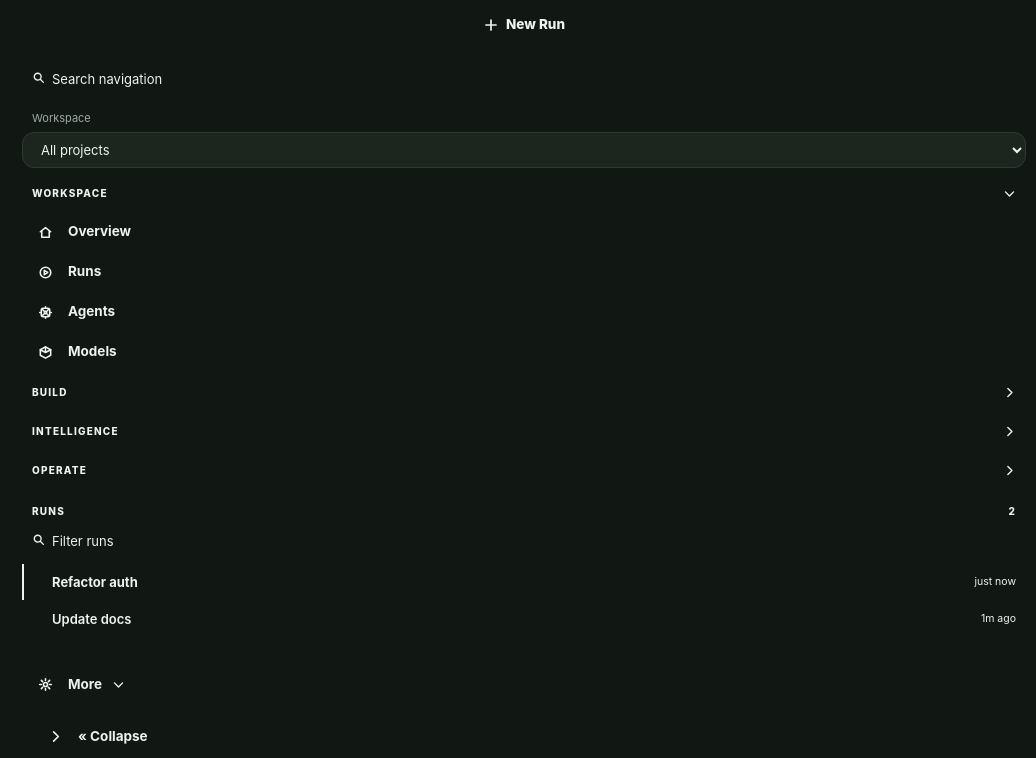
console shell › run list selects the active run with recognizable status
Check: the list named "recent runs" is shown, box [22,564,1026,637]
Click the option "Update docs 1m ago" at (92,619), box [52,611,1016,627]
(page scrolled)
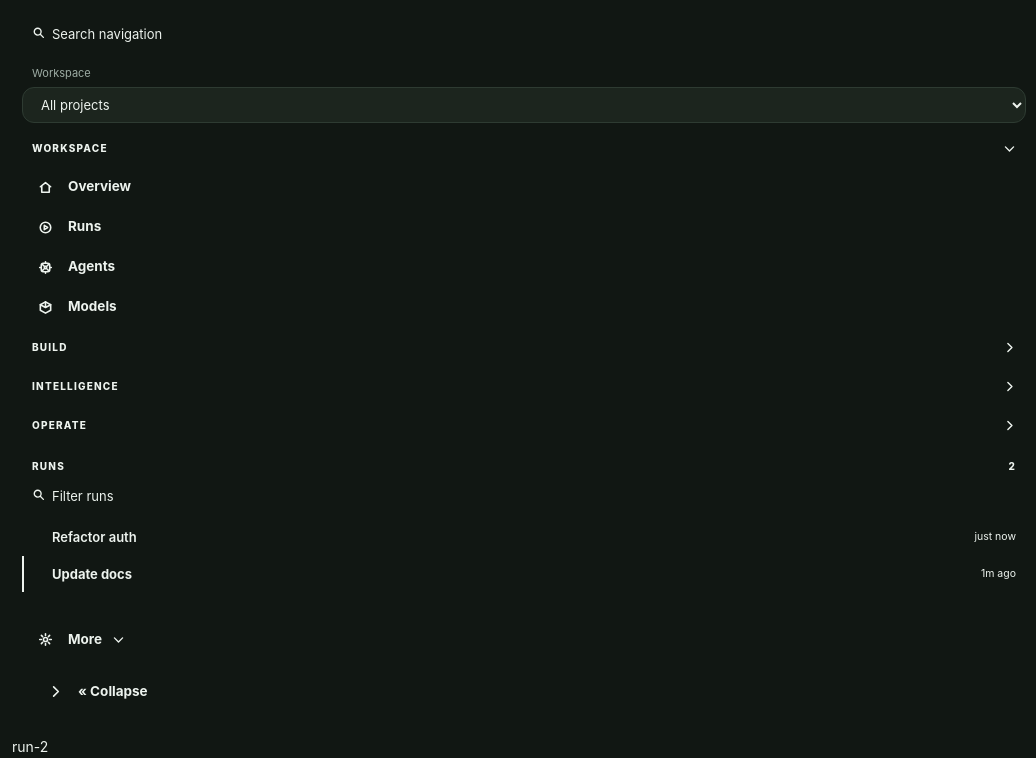
Check: the text with test id "active" reads "run-2", box [12,738,48,755]
